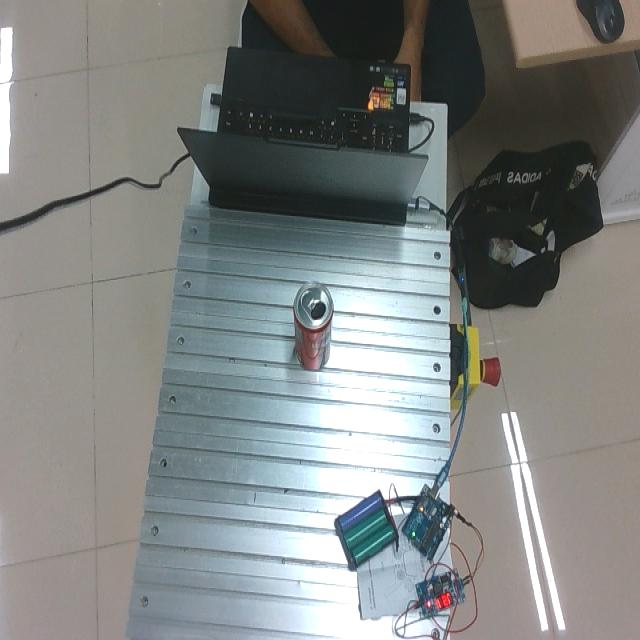coca: (293, 280, 334, 369)
